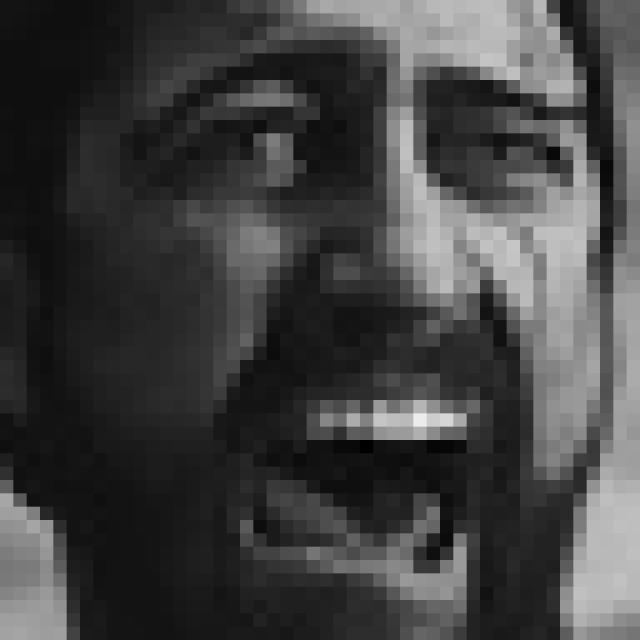angry: (131, 39, 588, 606)
